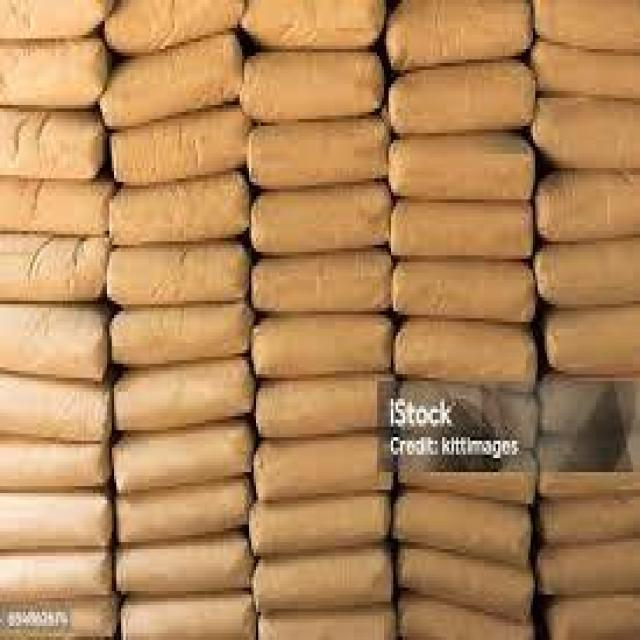gunny_bag: (103, 37, 240, 132), (396, 493, 531, 575), (248, 47, 385, 123), (259, 430, 390, 508), (393, 60, 532, 133), (397, 321, 532, 396), (250, 117, 383, 193), (115, 110, 244, 185), (405, 546, 530, 623), (111, 173, 248, 243), (256, 185, 388, 256), (258, 313, 391, 383), (398, 0, 530, 70), (116, 238, 247, 308), (114, 425, 247, 493), (406, 385, 537, 453), (119, 480, 249, 548), (259, 548, 389, 616), (119, 366, 254, 431), (119, 303, 248, 371), (392, 200, 535, 260), (393, 135, 529, 198), (537, 93, 636, 175), (121, 540, 252, 600), (260, 378, 393, 436), (398, 263, 530, 321), (254, 260, 391, 315), (541, 167, 640, 243), (0, 378, 112, 445), (539, 238, 637, 313), (401, 443, 534, 498), (2, 42, 104, 112), (263, 495, 387, 551), (109, 0, 238, 53), (2, 110, 102, 178), (0, 493, 111, 553), (2, 241, 104, 305), (550, 306, 638, 380), (0, 175, 107, 235), (0, 546, 112, 603), (6, 310, 103, 373), (543, 441, 637, 501), (544, 378, 637, 438), (542, 0, 638, 57), (541, 43, 640, 98), (544, 543, 639, 600), (0, 443, 110, 490), (547, 495, 636, 548)
